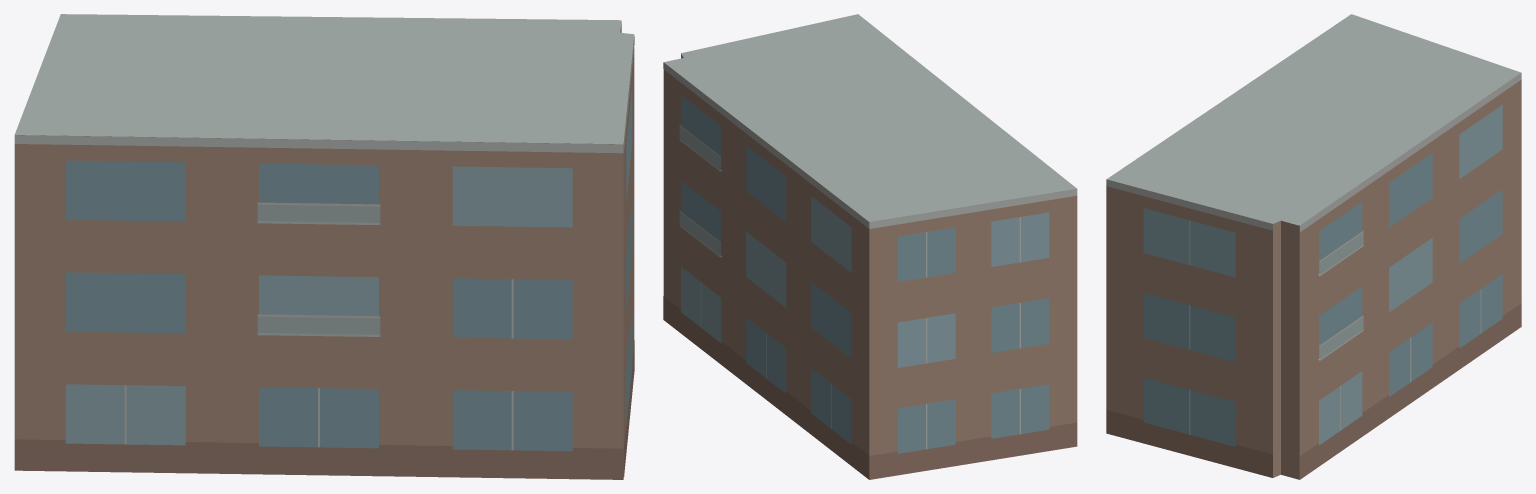
The model's file is survey-upis-32675029.glb.
3 views of the same model, side by side, from view 1: azimuth 30°, elevation 25°; view 2: azimuth 150°, elevation 25°; view 3: azimuth 270°, elevation 25° (orthographic). The views are drawn at different scales.
Visible parts, largest first — view 1: survey-upis-32675029.tmp; view 2: survey-upis-32675029.tmp; view 3: survey-upis-32675029.tmp.
Part boxes in pixels (box(x1,y1,x2,y2)): survey-upis-32675029.tmp: box(14, 14, 634, 479); survey-upis-32675029.tmp: box(663, 14, 1077, 479); survey-upis-32675029.tmp: box(1106, 14, 1521, 479).
Bounding box in the file's own units: 16.27 × 9.1 × 13.48.
